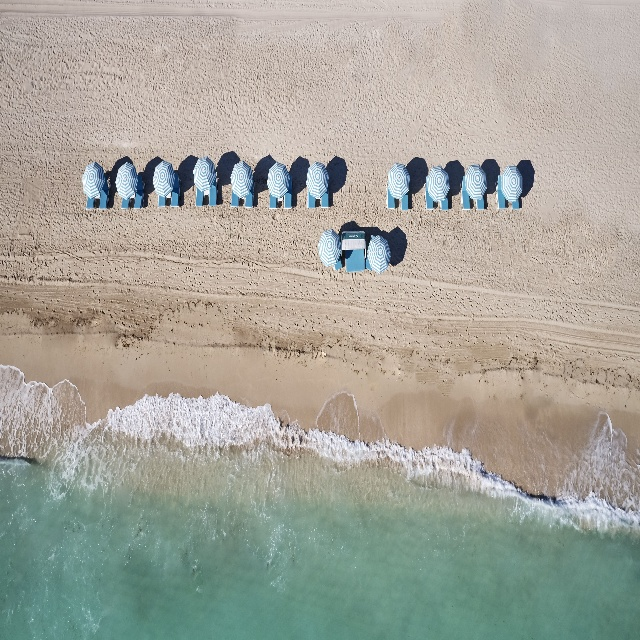linhaEspraiamento: (3, 329, 640, 577)
